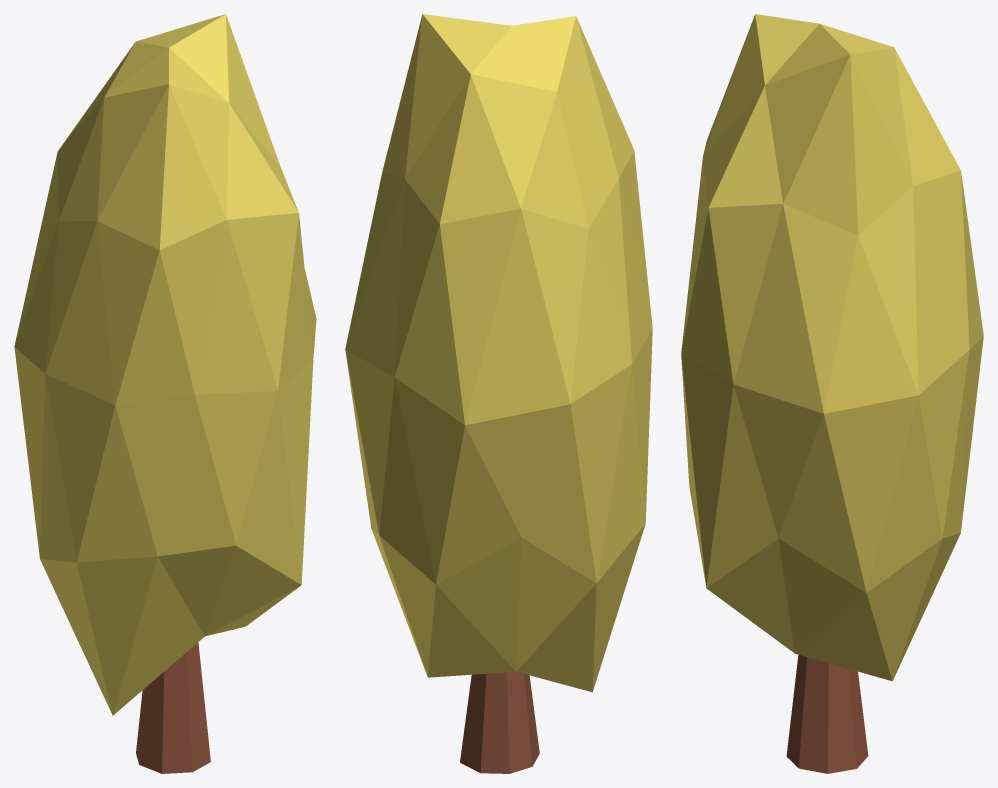
Rendered from Tree_05_autumn.fbx.
3 views of the same model, side by side, from view 1: azimuth 30°, elevation 25°; view 2: azimuth 150°, elevation 25°; view 3: azimuth 270°, elevation 25° (orthographic). The views are drawn at different scales.
Parts seen in each view (by area): view 1: Tree_05_autumn; view 2: Tree_05_autumn; view 3: Tree_05_autumn.
Boxes of the visible parts, x1,y1,x2,y2 form: Tree_05_autumn: [14, 14, 316, 773]; Tree_05_autumn: [345, 14, 652, 773]; Tree_05_autumn: [681, 14, 983, 773].
Size of the model in its own units: 104 by 266 by 99.25.
